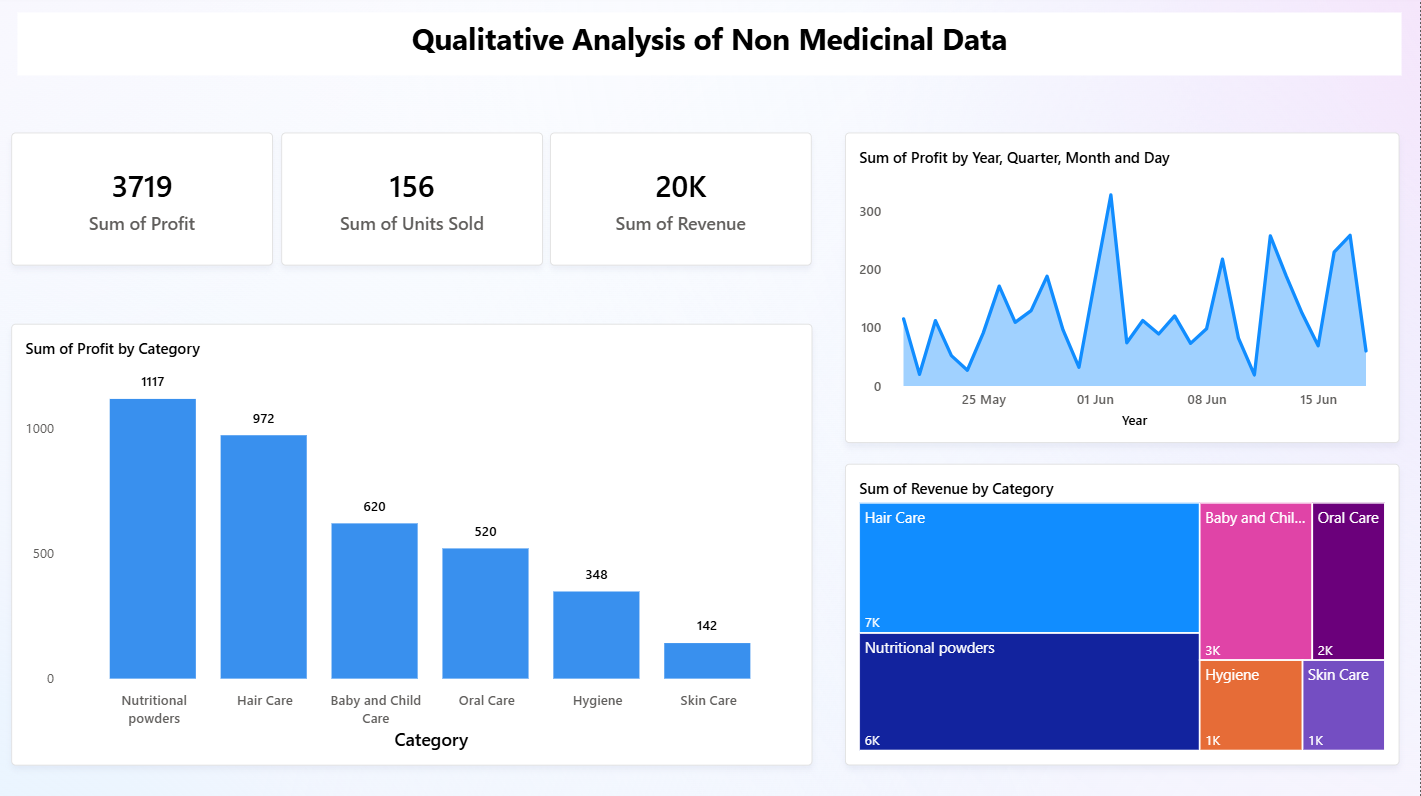

The page's visual inventory and layout, read from the dashboard file:
{"tool":"powerbi","page":{"name":"Page 1","canvas":[1280,720],"ordinal":0},"visuals":[{"type":"lineChart","fields":{"Y":["Sum(Non-medicinal Sales.Profit)"],"Category":["Non-medicinal Sales.Date.Variation.Date Hierarchy.Year","Non-medicinal Sales.Date.Variation.Date Hierarchy.Quarter","Non-medicinal Sales.Date.Variation.Date Hierarchy.Month","Non-medicinal Sales.Date.Variation.Date Hierarchy.Day"]},"box":[762,120,500,280],"z":0},{"type":"lineClusteredColumnComboChart","fields":{"Category":["Non-medicinal Sales.Category"],"Y":["Sum(Non-medicinal Sales.Profit)"]},"box":[10,292,722,398],"z":1000},{"type":"card","fields":{"Values":["Sum(Non-medicinal Sales.Profit)"]},"box":[10,120,236,120],"z":2000},{"type":"card","fields":{"Values":["Sum(Non-medicinal Sales.Revenue)"]},"box":[496,120,236,120],"z":3000},{"type":"card","fields":{"Values":["Sum(Non-medicinal Sales.Units Sold)"]},"box":[254,120,236,120],"z":4000},{"type":"treemap","fields":{"Group":["Non-medicinal Sales.Category"],"Values":["Sum(Non-medicinal Sales.Revenue)"]},"box":[762,418,500,272],"z":5000},{"type":"textbox","box":[16,11,1248,57],"z":6000}]}

Visuals, with their boxes in screenshot pixels (x1, y1, x2, y2), scaled from the page's 1280x720 canvas onto the 1421x796 screenshot:
lineChart - Sum(Non-medicinal Sales.Profit) x Non-medicinal Sales.Date.Variation.Date Hierarchy.Year: pyautogui.locateOnScreen(846, 133, 1401, 442)
lineClusteredColumnComboChart - Non-medicinal Sales.Category x Sum(Non-medicinal Sales.Profit): pyautogui.locateOnScreen(11, 323, 813, 763)
card - Sum(Non-medicinal Sales.Profit): pyautogui.locateOnScreen(11, 133, 273, 265)
card - Sum(Non-medicinal Sales.Revenue): pyautogui.locateOnScreen(551, 133, 813, 265)
card - Sum(Non-medicinal Sales.Units Sold): pyautogui.locateOnScreen(282, 133, 544, 265)
treemap - Non-medicinal Sales.Category x Sum(Non-medicinal Sales.Revenue): pyautogui.locateOnScreen(846, 462, 1401, 763)
textbox: pyautogui.locateOnScreen(18, 12, 1403, 75)
